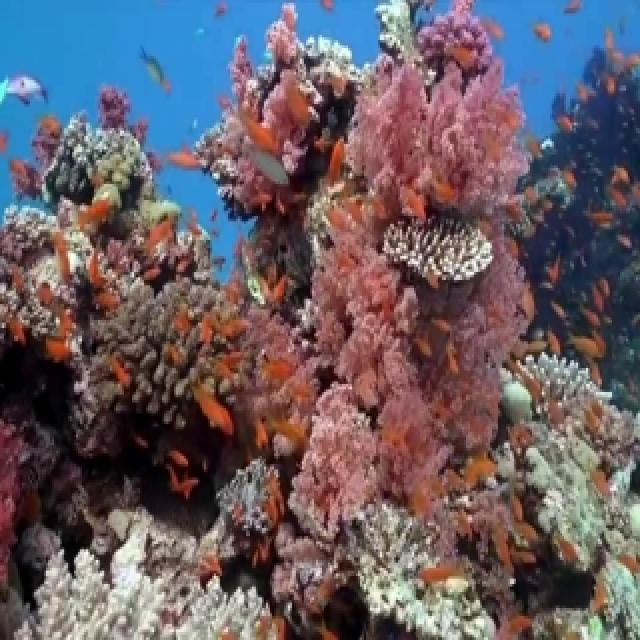fish: (106, 87, 283, 158), (7, 73, 106, 109), (200, 386, 233, 435), (136, 36, 165, 89), (561, 330, 605, 364), (168, 474, 202, 502), (169, 444, 190, 467)
reefs: (191, 2, 537, 566)
sea-floor: (2, 115, 639, 637)
